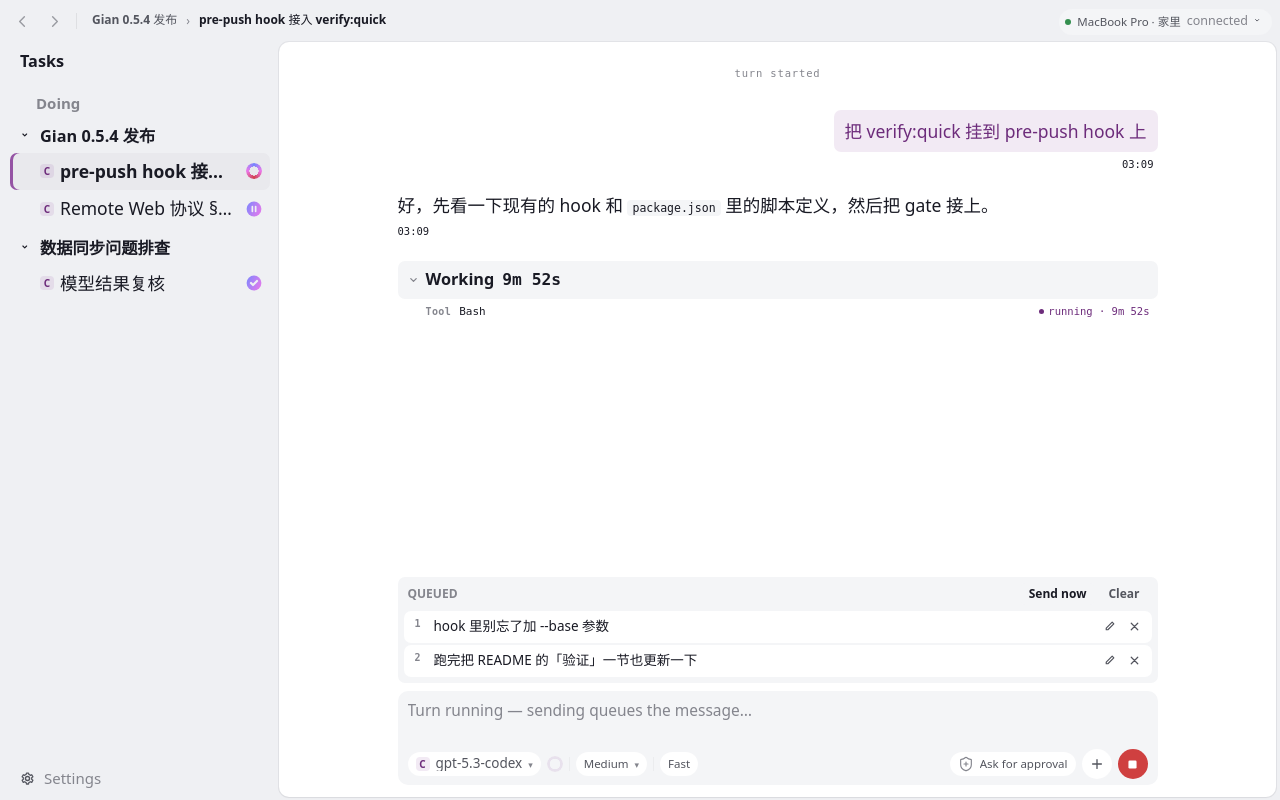
Test: chat + composer (B5) › audit chip lists the proxy modes and settles approval_mode (2026-09-15 audit-mode sync)
What coordinates should you click on to do the following:
click the button with test id "rw-approval-chip"
I would click on:
 (1013, 764)
Its box is [950,752,1076,776].
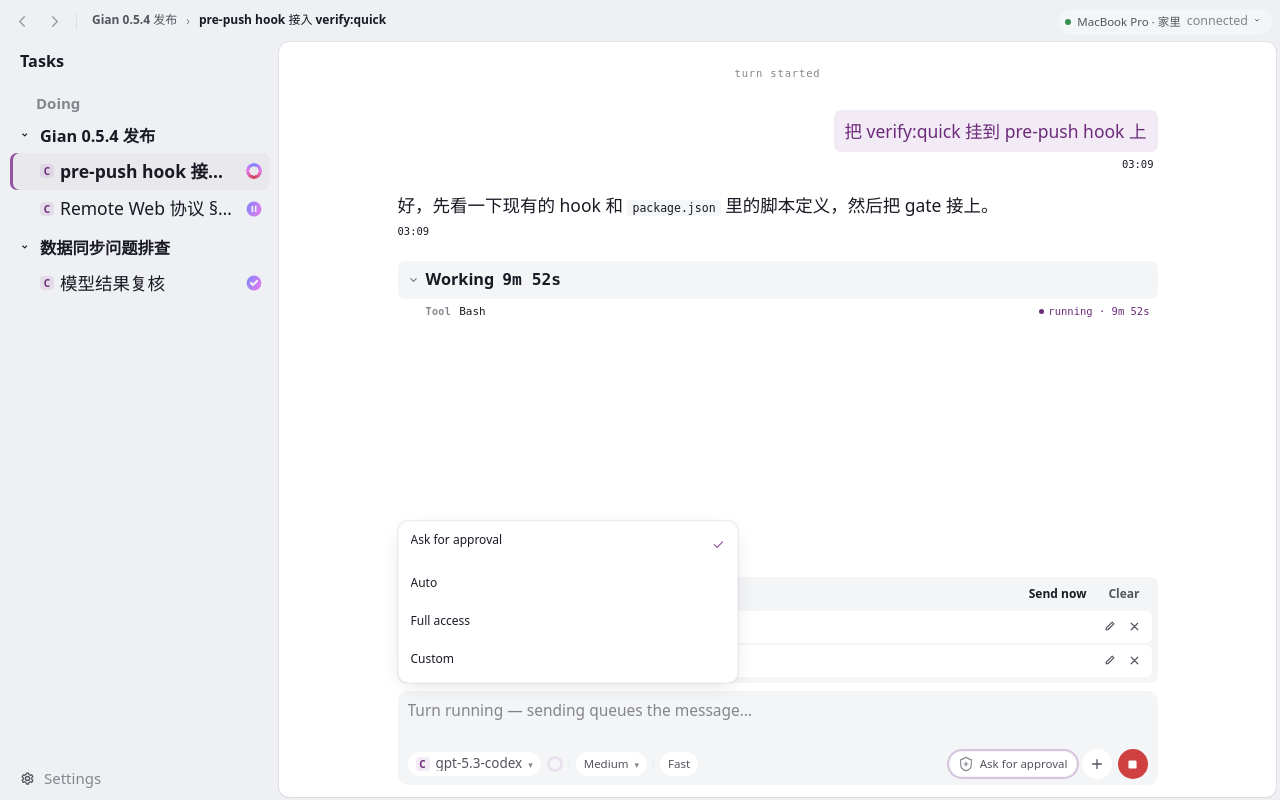
What coordinates should you click on to do the following:
click the menu item "Full access"
I would click on:
 (440, 620)
Its box is [402,602,732,640].
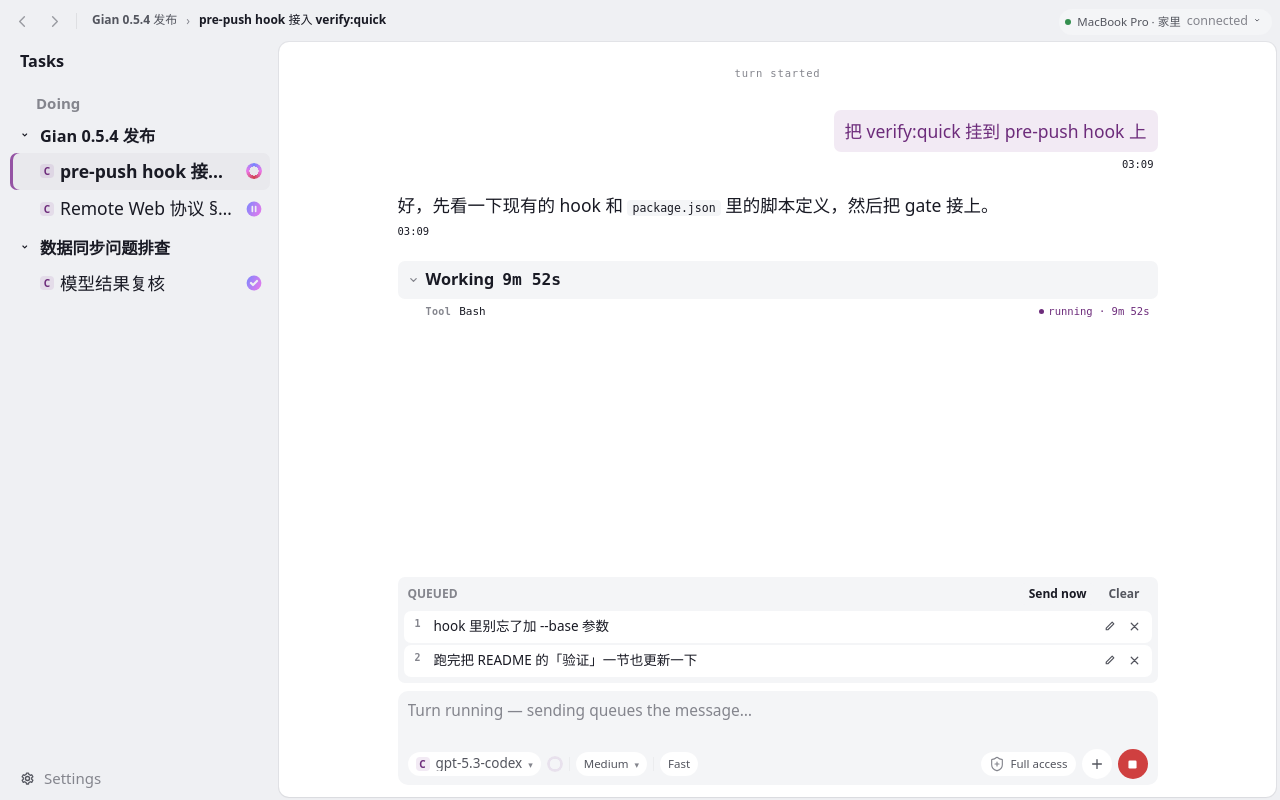
Result: the button with test id "rw-approval-chip" reads "Full access" at [980,752,1076,776]
